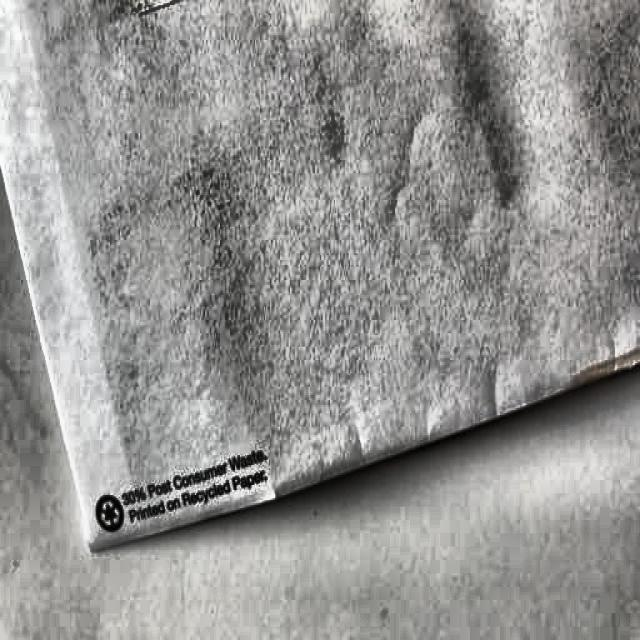paper: (2, 7, 635, 553)
